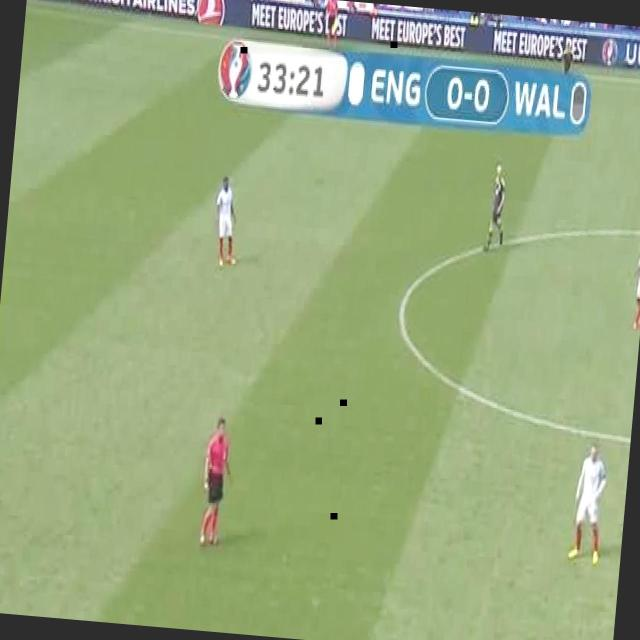player-white: (568, 441, 610, 567), (198, 416, 236, 547), (211, 176, 245, 270), (483, 160, 510, 252), (321, 0, 341, 50), (631, 236, 640, 328), (561, 41, 574, 79)
